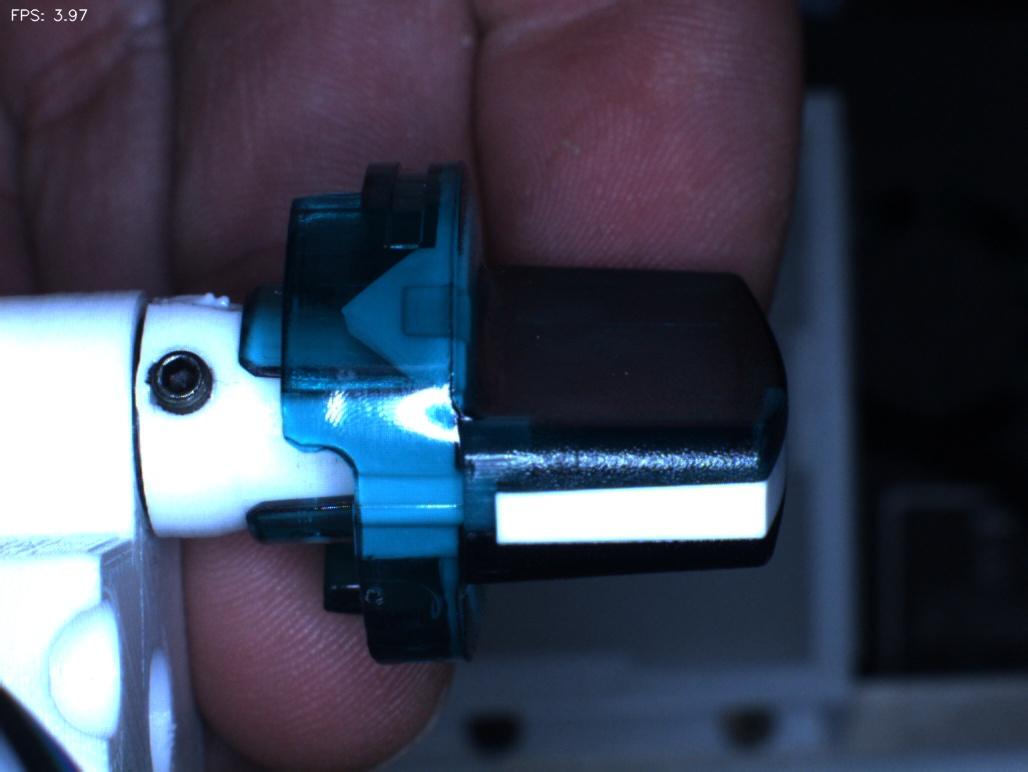DentOk: (322, 278, 395, 362)
